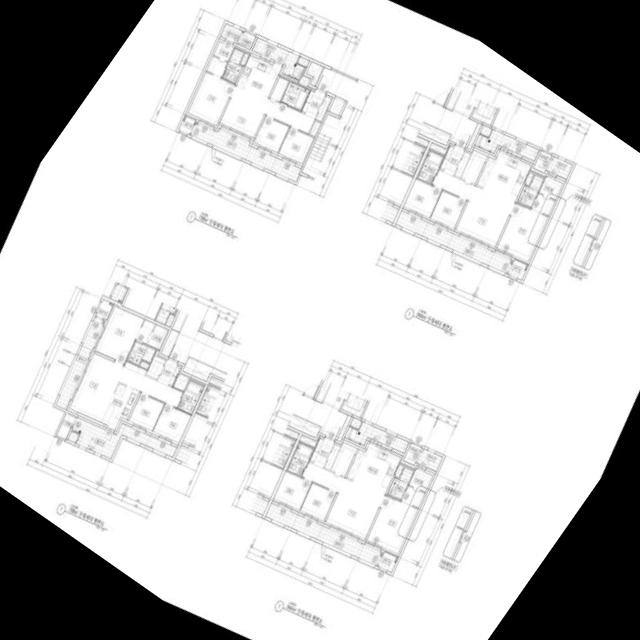background: (0, 0, 640, 640)
space_balconi: (265, 503, 382, 566), (395, 211, 512, 274), (190, 122, 301, 182), (55, 316, 104, 409), (71, 417, 176, 459), (252, 38, 304, 80), (344, 422, 409, 453), (474, 130, 539, 161), (416, 449, 442, 471), (546, 157, 572, 179), (220, 23, 242, 43)
space_bedroom: (366, 495, 417, 554), (496, 203, 547, 261), (95, 306, 143, 363), (187, 72, 234, 125), (273, 471, 311, 510), (152, 404, 190, 443), (403, 179, 441, 218), (430, 191, 466, 228), (300, 483, 335, 521), (128, 393, 163, 431), (278, 127, 313, 163), (254, 116, 288, 153)
space_dressroom: (401, 468, 432, 508), (531, 176, 562, 216), (206, 41, 233, 77), (135, 320, 167, 350)
space_front: (309, 437, 334, 468), (439, 145, 464, 176), (301, 89, 325, 119), (157, 358, 180, 386)
space_kitchen: (476, 151, 531, 202), (346, 443, 400, 494), (237, 55, 281, 98), (100, 382, 139, 429)
space_living_room: (69, 353, 182, 422), (302, 462, 384, 539), (432, 170, 514, 247), (220, 84, 314, 138)
space_other: (330, 442, 356, 476), (460, 150, 486, 184), (56, 413, 75, 439), (146, 355, 165, 379), (269, 77, 288, 101), (306, 61, 323, 86), (324, 444, 340, 470), (454, 152, 470, 178), (315, 96, 331, 121), (403, 443, 421, 465), (533, 151, 551, 173), (336, 415, 351, 441), (466, 123, 481, 149), (328, 96, 345, 116), (238, 32, 255, 49), (173, 374, 189, 391), (429, 143, 446, 155), (299, 436, 316, 447), (309, 121, 320, 136), (479, 125, 491, 137), (349, 418, 361, 429), (67, 431, 78, 443), (297, 56, 309, 67), (298, 76, 309, 87), (239, 53, 248, 66), (524, 172, 533, 185), (394, 465, 403, 477), (139, 361, 149, 369)
space_outdoor_room: (507, 259, 528, 280), (377, 552, 397, 572), (95, 299, 113, 320), (178, 115, 195, 134)
space_toilet: (286, 442, 313, 476), (177, 380, 204, 414), (417, 150, 443, 184), (387, 467, 413, 500), (517, 175, 543, 208), (280, 81, 309, 110), (221, 48, 243, 83), (126, 341, 155, 365)
